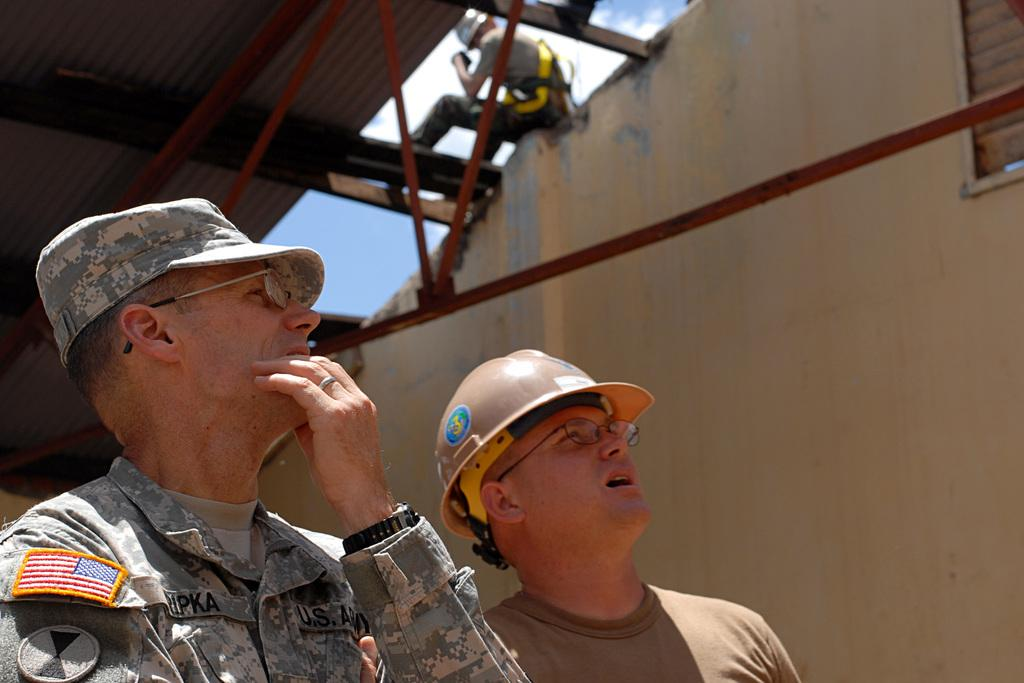helmet: (434, 349, 655, 540)
nohelmet: (34, 198, 327, 469)
